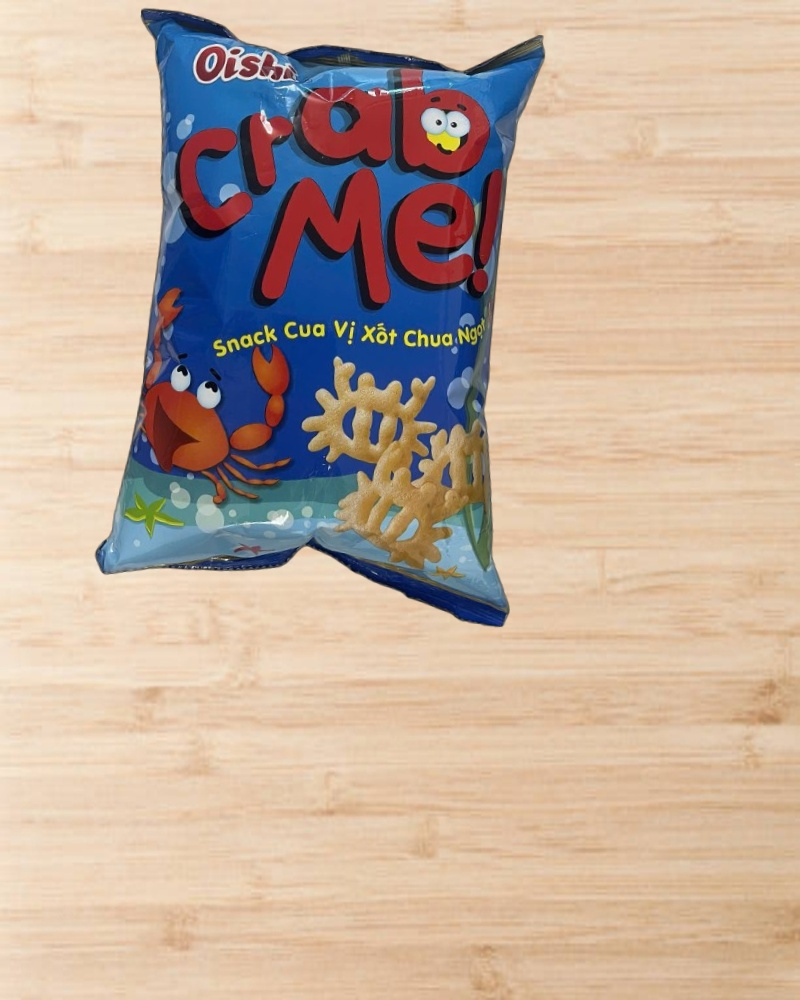Snack chay: (91, 1, 559, 630)
